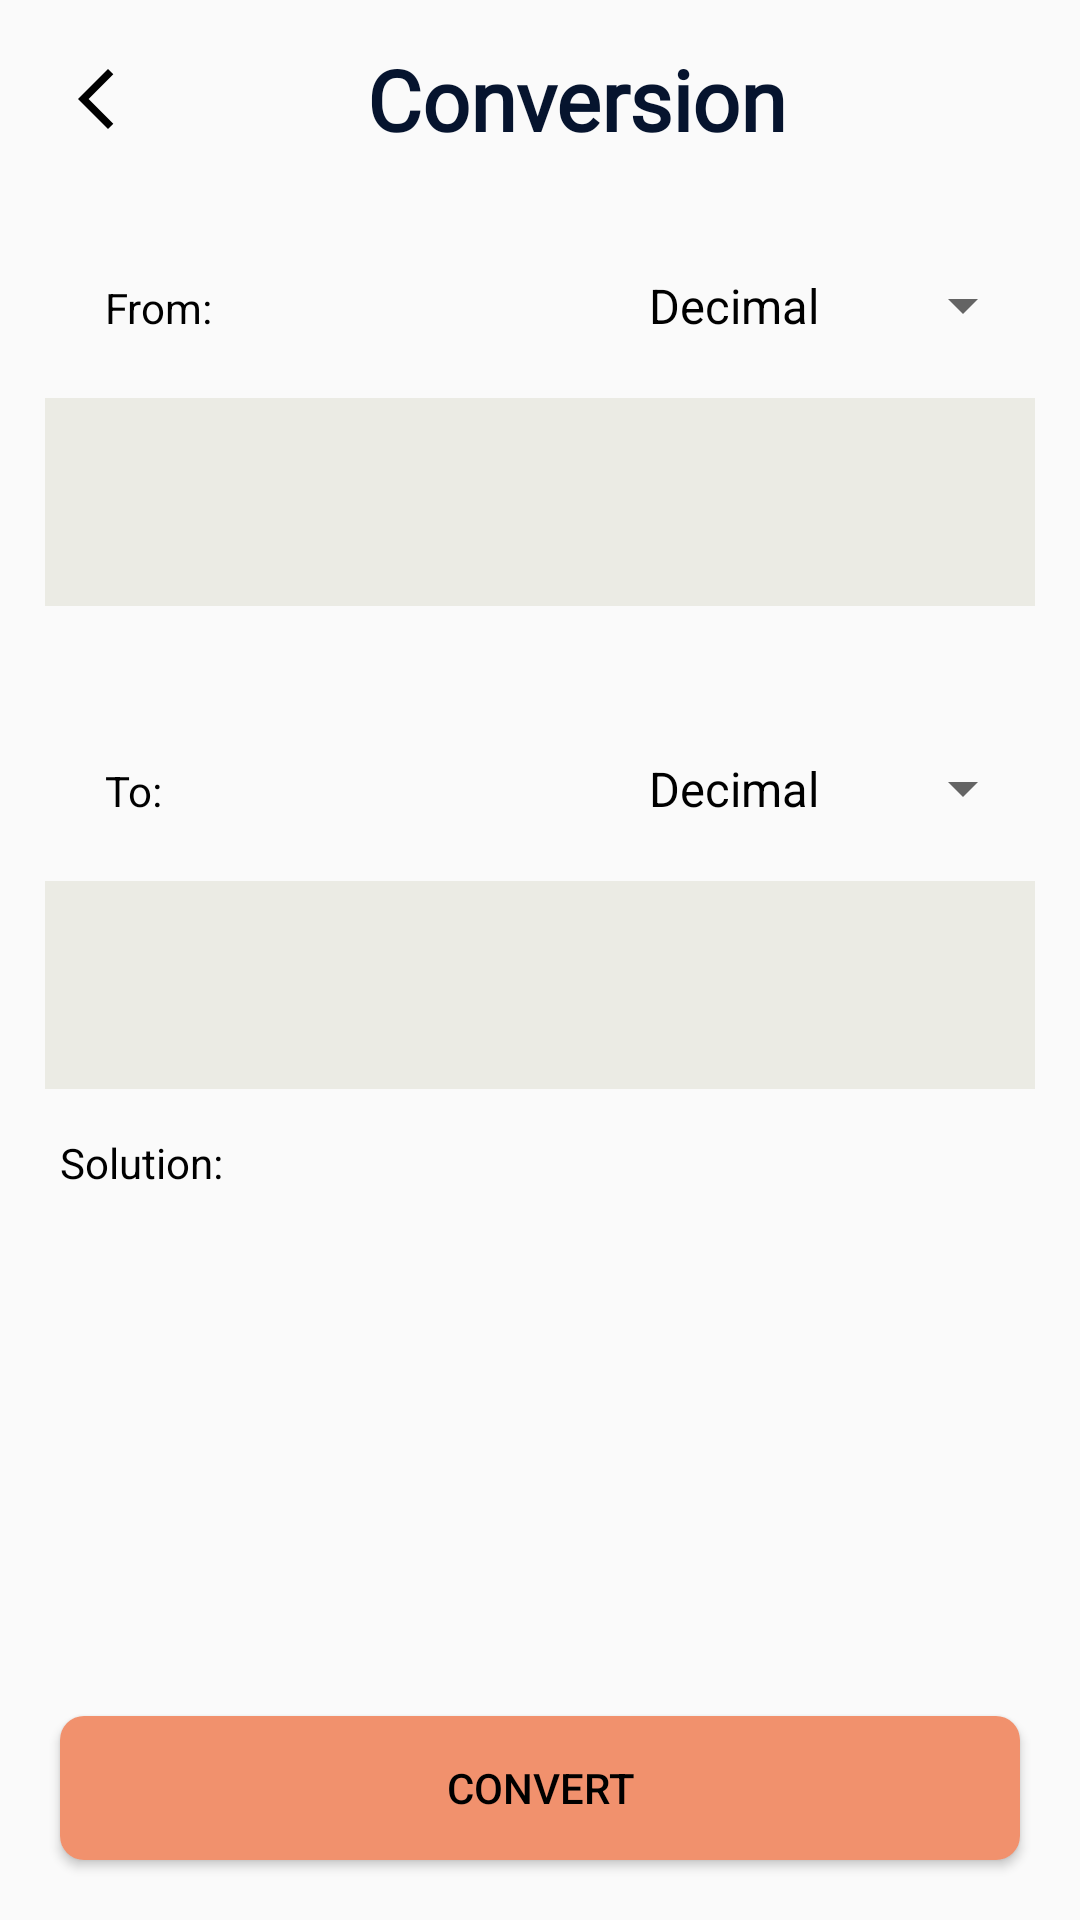

Point at icon controls on the screen. Image size 1080 x 1920, points as point (x, y).
arrow back: point (95, 99)
